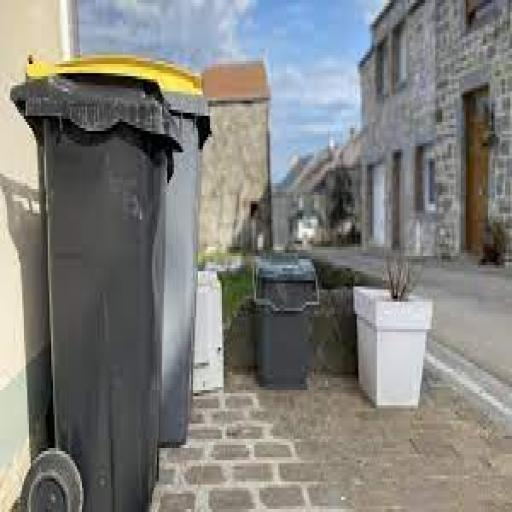poubelle_vide: (8, 51, 178, 510), (238, 211, 334, 407)
